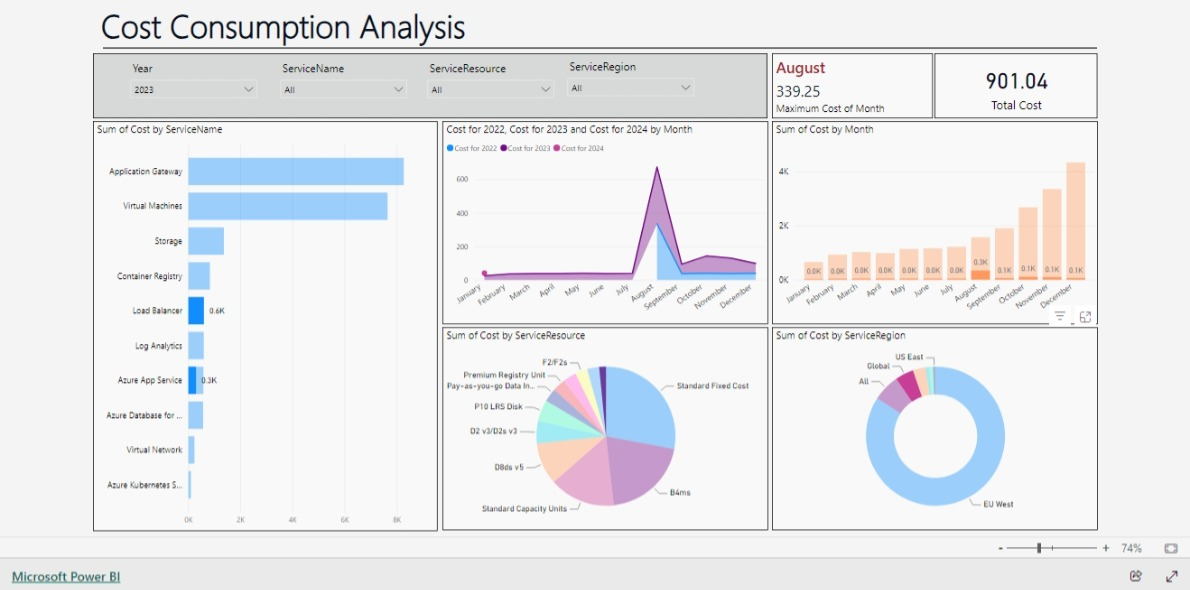

The dashboard page shown, as its layout file describes it:
{"tool":"powerbi","page":{"name":"Page 1","canvas":[1503,800],"ordinal":0},"visuals":[{"type":"shape","box":[3.2,79,1006,97],"z":0},{"type":"columnChart","title":"Total Cost by Month","fields":{"Category":["AzureUsage_Workxflow_10-01-2024.Date.Variation.Date Hierarchy.Month"],"Y":["Sum(AzureUsage_Workxflow_10-01-2024.Cost)"]},"box":[1015,180,486,303.4],"z":1000},{"type":"donutChart","title":"Total Cost by ServiceRegion","fields":{"Category":["AzureUsage_Workxflow_10-01-2024.ServiceRegion"],"Y":["Sum(AzureUsage_Workxflow_10-01-2024.Cost)"]},"box":[1015,488,486,303],"z":2000},{"type":"pieChart","title":"Total Cost by ServiceResource","fields":{"Category":["AzureUsage_Workxflow_10-01-2024.ServiceResource"],"Y":["Sum(AzureUsage_Workxflow_10-01-2024.Cost)"]},"box":[523.3,488,486,303],"z":3000},{"type":"clusteredBarChart","title":"total cost by ServiceName","fields":{"Category":["AzureUsage_Workxflow_10-01-2024.ServiceName"],"Y":["Sum(AzureUsage_Workxflow_10-01-2024.Cost)"]},"box":[3,180,514,611],"z":4000},{"type":"card","fields":{"Values":["Sum(AzureUsage_Workxflow_10-01-2024.Cost)"]},"box":[1258.3,79,242.7,97],"z":5000},{"type":"slicer","fields":{"Values":["AzureUsage_Workxflow_10-01-2024.ServiceName"]},"box":[417,85.7,193.9,87.3],"z":6000},{"type":"slicer","fields":{"Values":["AzureUsage_Workxflow_10-01-2024.ServiceResource"]},"box":[610.9,85.7,192.3,87.3],"z":7000},{"type":"slicer","fields":{"Values":["AzureUsage_Workxflow_10-01-2024.ServiceRegion"]},"box":[803.2,85.7,193.9,87.3],"z":8000},{"type":"slicer","fields":{"Values":["AzureUsage_Workxflow_10-01-2024.Date.Variation.Date Hierarchy.Year"]},"box":[17.6,86.2,193,86.2],"z":9000},{"type":"multiRowCard","fields":{"Values":["AzureUsage_Workxflow_10-01-2024.Date.Variation.Date Hierarchy.Month","Sum(AzureUsage_Workxflow_10-01-2024.Cost)"]},"box":[1015.6,79.8,239.5,97.4],"z":10000},{"type":"stackedAreaChart","title":"Cost Comparison by Year","fields":{"Category":["AzureUsage_Workxflow_10-01-2024.Date.Variation.Date Hierarchy.Month"],"Y":["AzureUsage_Workxflow_10-01-2024.Cost for 2022","AzureUsage_Workxflow_10-01-2024.Cost for 2023","AzureUsage_Workxflow_10-01-2024.Cost for 2024"]},"box":[523.3,180,486,303.3],"z":11000},{"type":"shape","box":[17.6,19,1483.4,105.4],"z":12000},{"type":"textbox","box":[9.6,0,811.2,83],"z":13000},{"type":"slicer","fields":{"Values":["AzureUsage_Workxflow_10-01-2024.Date.Variation.Date Hierarchy.Month"]},"box":[221.4,85.7,193.9,87.3],"z":13001}]}

Visuals, with their boxes on the page's 1503x800 design canvas (x1, y1, x2, y2). These are canvas units, not pixel positions in the 1190x590 screenshot, which may show the page scaled, cropped or inside an application window:
shape: (3, 79, 1009, 176)
"Total Cost by Month" columnChart: (1015, 180, 1501, 483)
"Total Cost by ServiceRegion" donutChart: (1015, 488, 1501, 791)
"Total Cost by ServiceResource" pieChart: (523, 488, 1009, 791)
"total cost by ServiceName" clusteredBarChart: (3, 180, 517, 791)
card - Sum(AzureUsage_Workxflow_10-01-2024.Cost): (1258, 79, 1501, 176)
slicer - AzureUsage_Workxflow_10-01-2024.ServiceName: (417, 86, 611, 173)
slicer - AzureUsage_Workxflow_10-01-2024.ServiceResource: (611, 86, 803, 173)
slicer - AzureUsage_Workxflow_10-01-2024.ServiceRegion: (803, 86, 997, 173)
slicer - AzureUsage_Workxflow_10-01-2024.Date.Variation.Date Hierarchy.Year: (18, 86, 211, 172)
multiRowCard - AzureUsage_Workxflow_10-01-2024.Date.Variation.Date Hierarchy.Month x Sum(AzureUsage_Workxflow_10-01-2024.Cost): (1016, 80, 1255, 177)
"Cost Comparison by Year" stackedAreaChart: (523, 180, 1009, 483)
shape: (18, 19, 1501, 124)
textbox: (10, 0, 821, 83)
slicer - AzureUsage_Workxflow_10-01-2024.Date.Variation.Date Hierarchy.Month: (221, 86, 415, 173)
